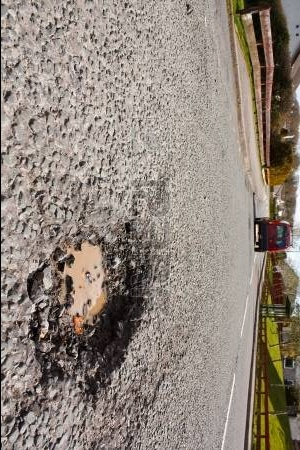pothole: (23, 207, 158, 392)
